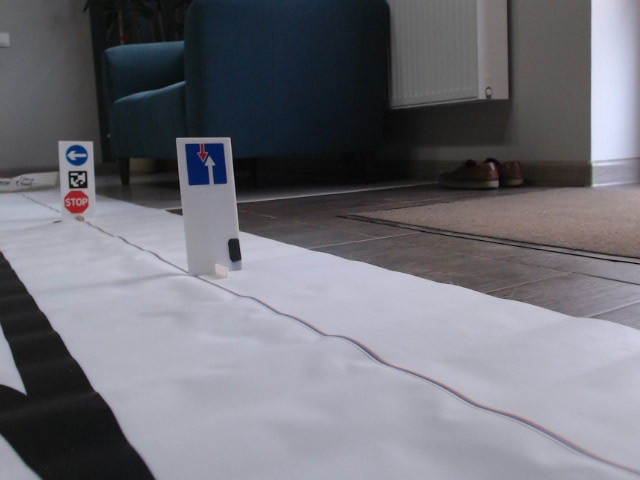Stop: (63, 190, 90, 214)
priority_movement: (183, 142, 229, 186)
